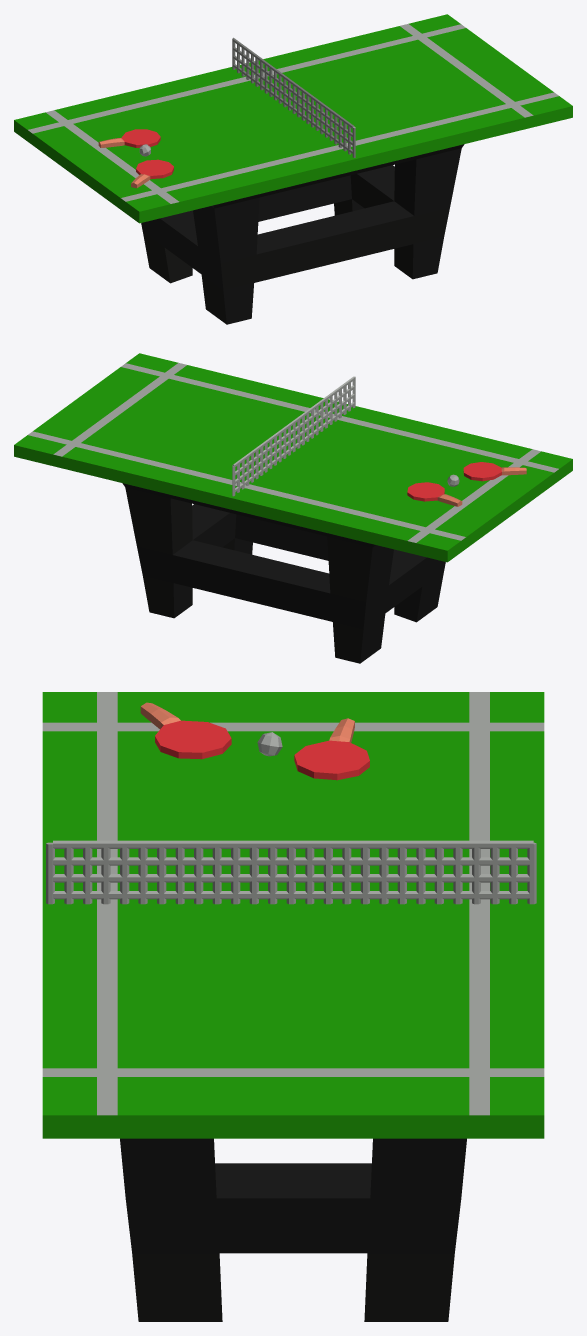
Rendered from PingusDingus.fbx.
The picture shows the model from 3 angles, top to bottom: view 1: azimuth 30°, elevation 25°; view 2: azimuth 150°, elevation 25°; view 3: azimuth 270°, elevation 25°; orthographic projection. The views are drawn at different scales.
Visible parts, largest first — view 1: Cylinder.002, Plane.001; view 2: Cylinder.002, Plane.001; view 3: Cylinder.002, Plane.001.
Boxes of the visible parts, box(x1,y1,x2,y2) form: Cylinder.002: box(14, 14, 572, 223); Plane.001: box(141, 144, 464, 324); Cylinder.002: box(14, 353, 572, 562); Plane.001: box(122, 483, 445, 663); Cylinder.002: box(42, 692, 544, 1138); Plane.001: box(120, 1138, 466, 1321).
Size of the model in its own units: 751 by 313 by 376.
